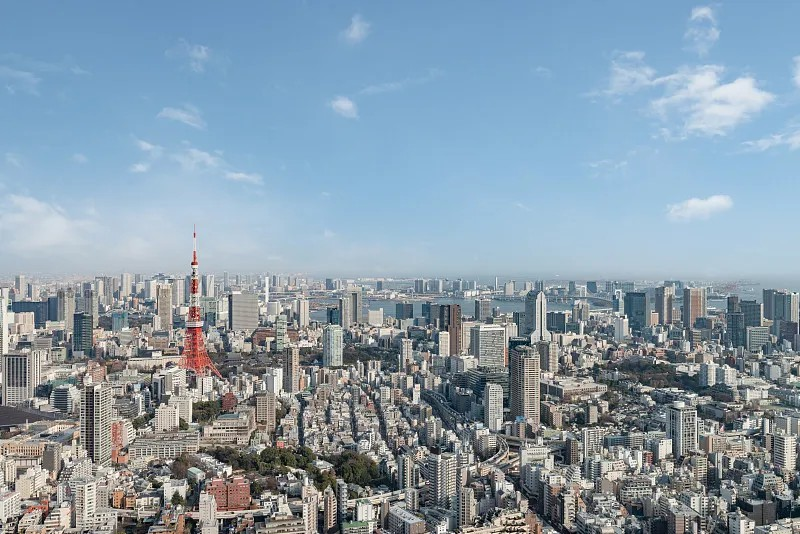Tokyo: (180, 219, 222, 380)
